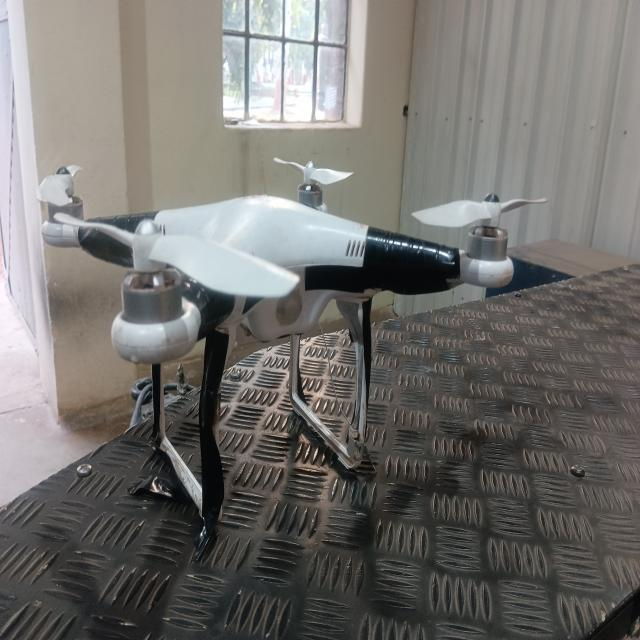drone: (30, 146, 528, 523)
